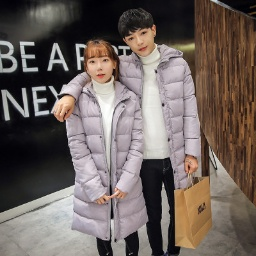face: (118, 9, 158, 56), (83, 38, 119, 84)
